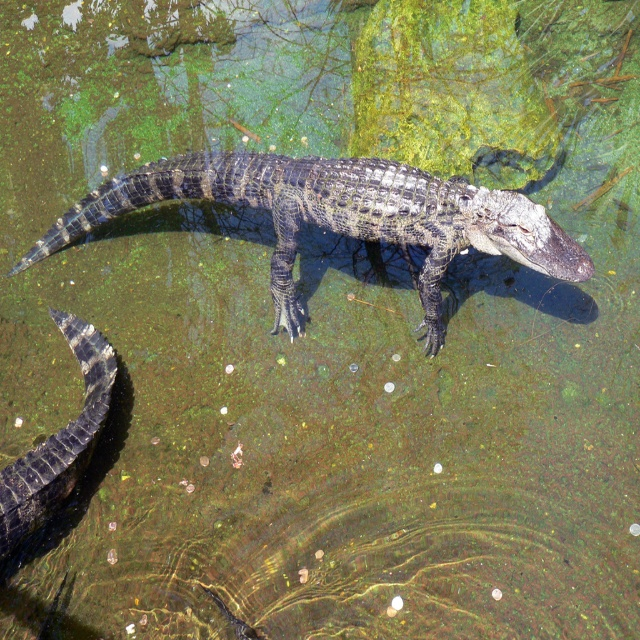Crocodile: (5, 150, 596, 359), (0, 302, 120, 562)
